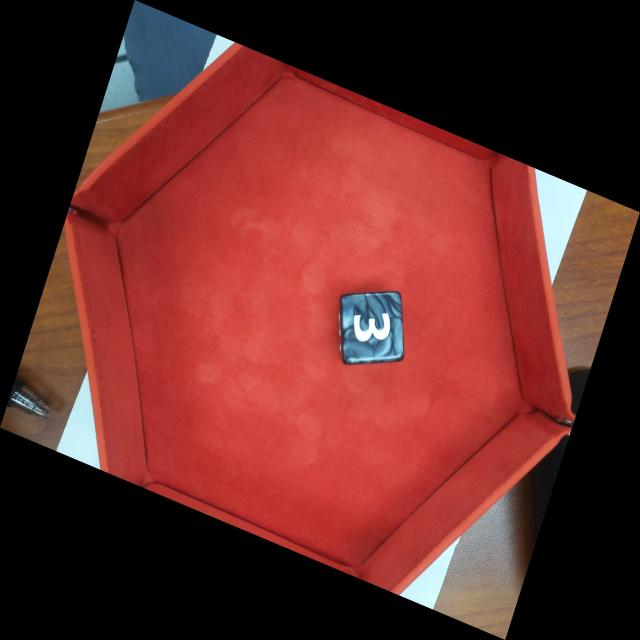dice: (338, 289, 405, 365)
